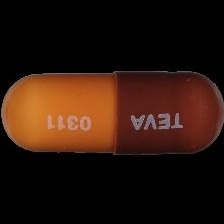16590-423: (0, 0, 224, 224)
